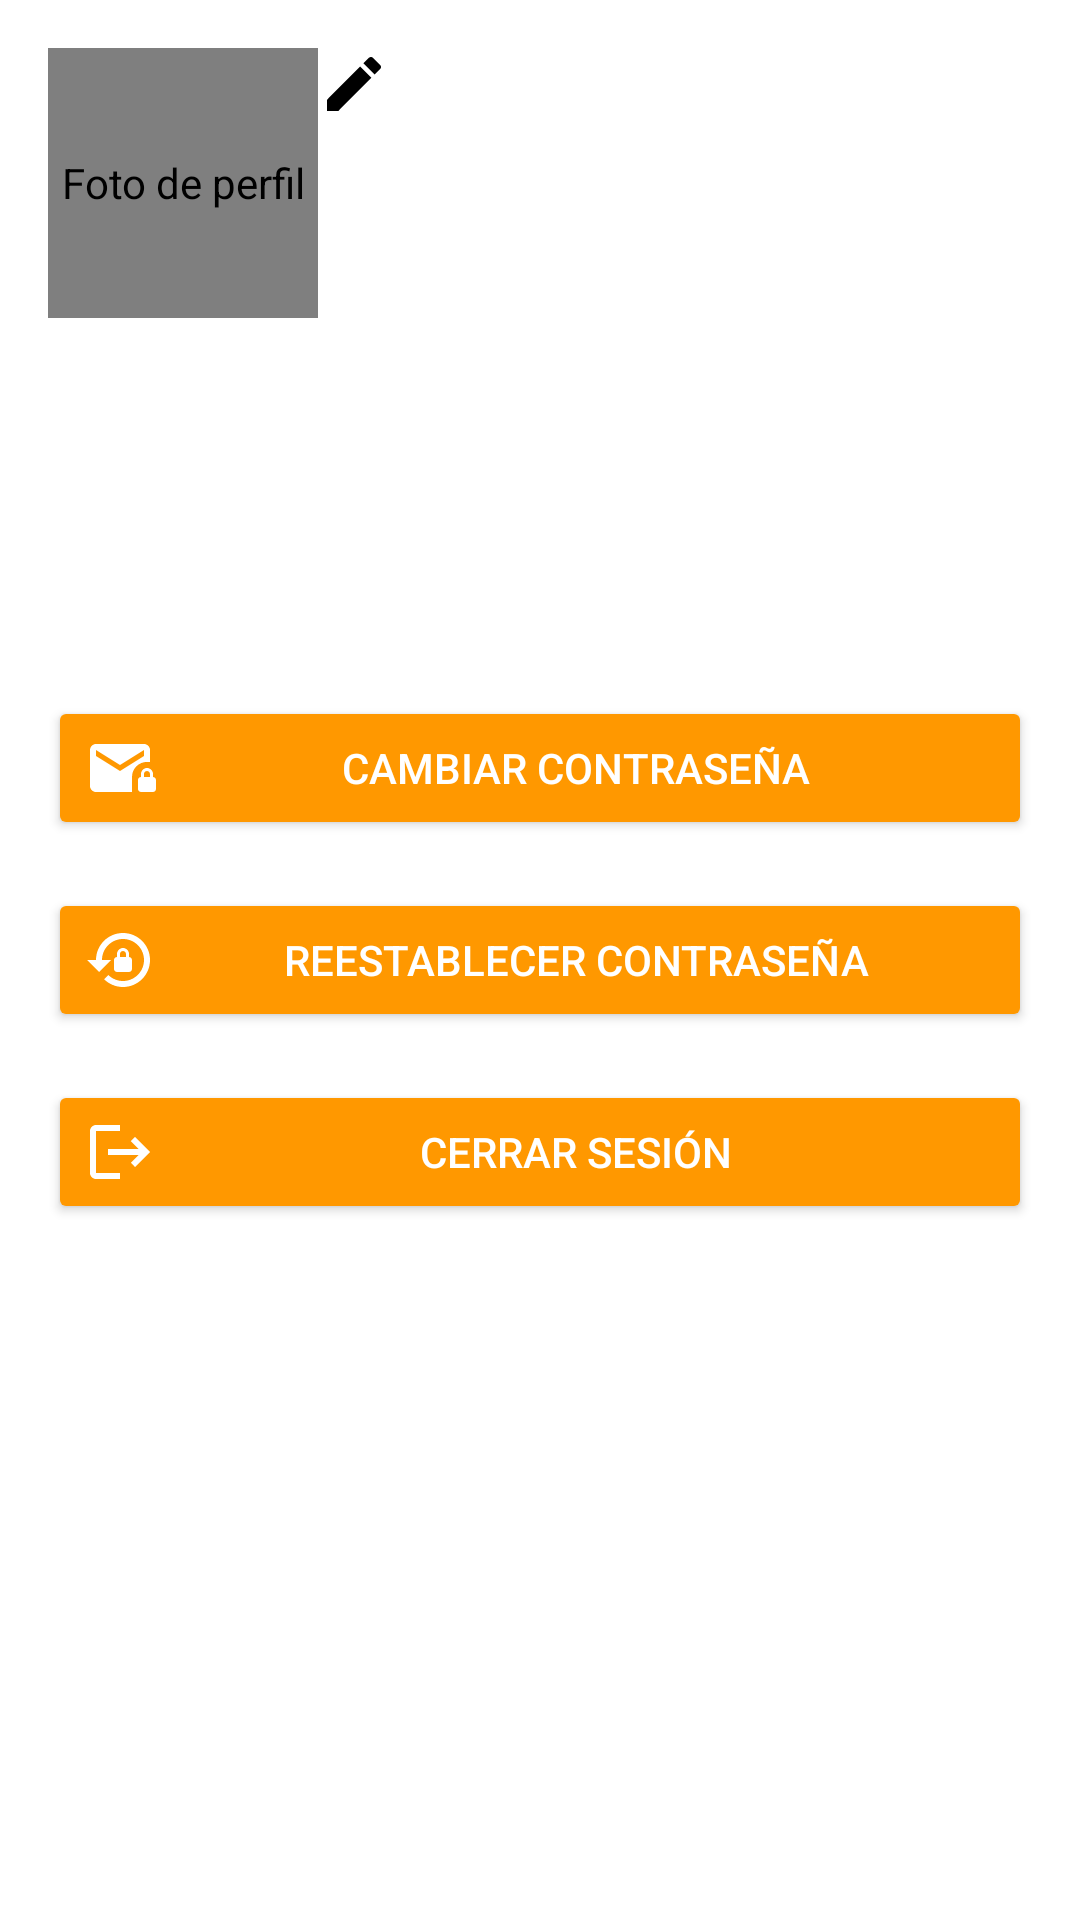

Icons on this 1080*1920 Android screen, each with its box as (x1, y1, x2, y2):
Editar: (327, 57, 381, 111)
